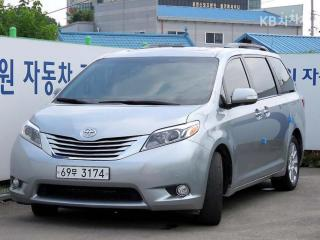1: (87, 167, 93, 179)
3: (81, 168, 87, 178)
4: (99, 168, 106, 179)
6: (60, 167, 67, 177)
7: (92, 168, 99, 178)
9: (66, 168, 71, 177)
plate: (52, 162, 114, 184)
무: (71, 167, 78, 177)
